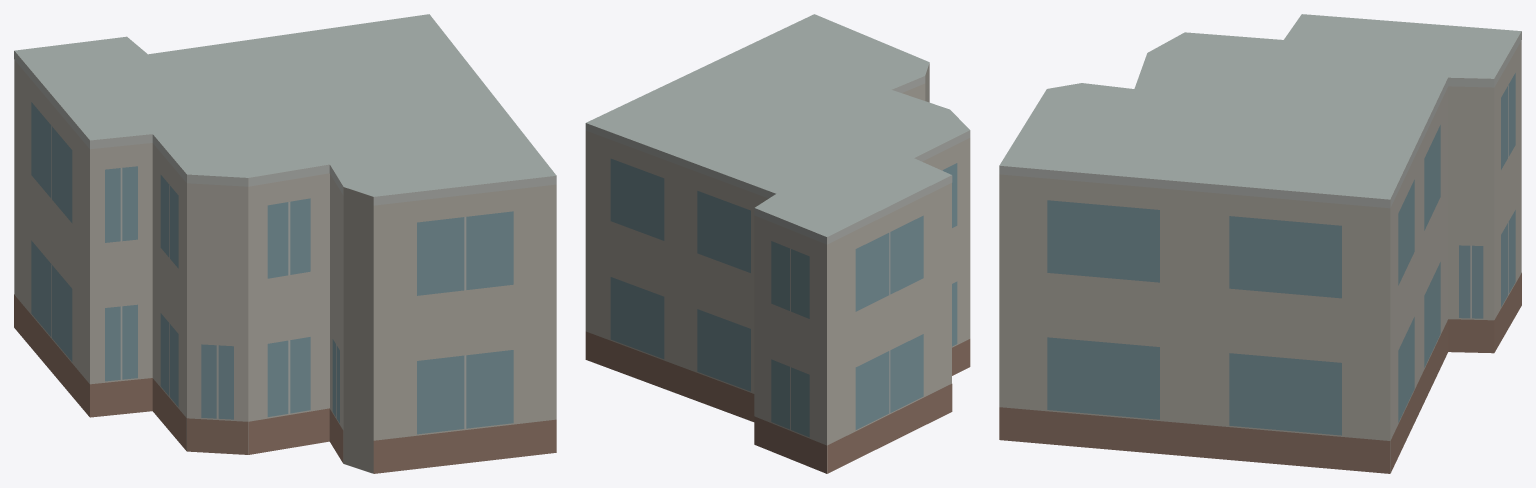
The model's file is survey-upis-32999376.glb.
The picture shows the model from 3 angles, left to right: view 1: azimuth 30°, elevation 25°; view 2: azimuth 150°, elevation 25°; view 3: azimuth 270°, elevation 25°; orthographic projection. The views are drawn at different scales.
Visible parts, largest first — view 1: survey-upis-32999376.tmp; view 2: survey-upis-32999376.tmp; view 3: survey-upis-32999376.tmp.
Boxes of the visible parts, x1,y1,x2,y2 form: survey-upis-32999376.tmp: (14, 14, 556, 473); survey-upis-32999376.tmp: (585, 14, 970, 473); survey-upis-32999376.tmp: (999, 14, 1521, 473).
Size of the model in its own units: 11.19 by 7.7 by 13.31.
